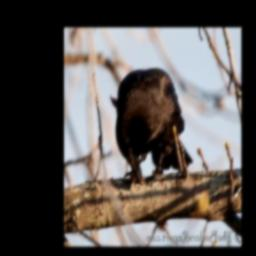Crow: (108, 66, 194, 185)
